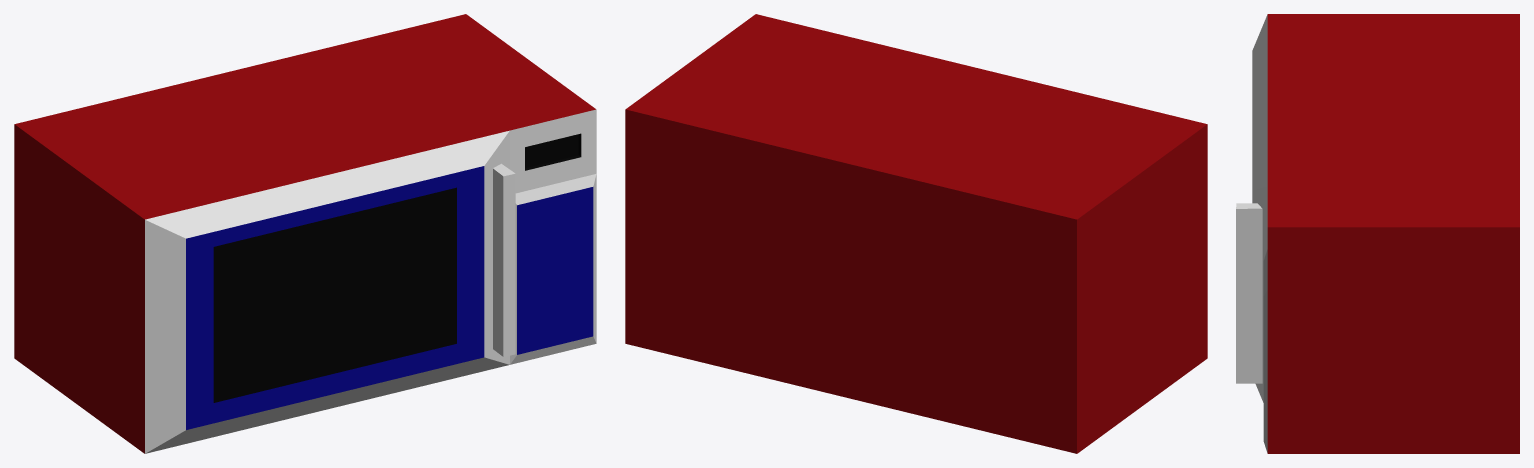
The model's file is Microwave.glb.
3 views of the same model, side by side, from view 1: azimuth 30°, elevation 25°; view 2: azimuth 150°, elevation 25°; view 3: azimuth 270°, elevation 25° (orthographic). The views are drawn at different scales.
Visible parts, largest first — view 1: Microwave; view 2: Microwave; view 3: Microwave.
Part boxes in pixels (x1=…): Microwave: x1=14, y1=14, x2=596, y2=453; Microwave: x1=625, y1=14, x2=1207, y2=453; Microwave: x1=1236, y1=14, x2=1519, y2=453.
Bounding box in the file's own units: 1.25 × 0.6216 × 0.7056.
